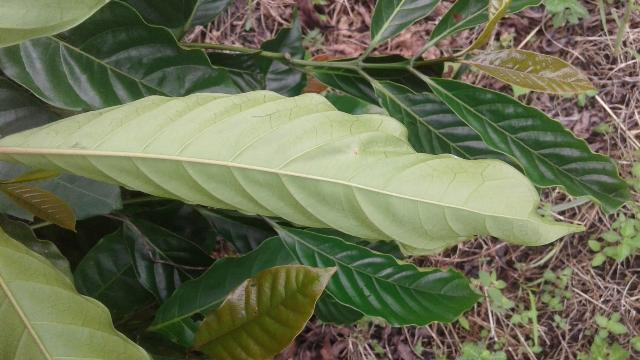rust_level_1: (0, 91, 585, 256)
